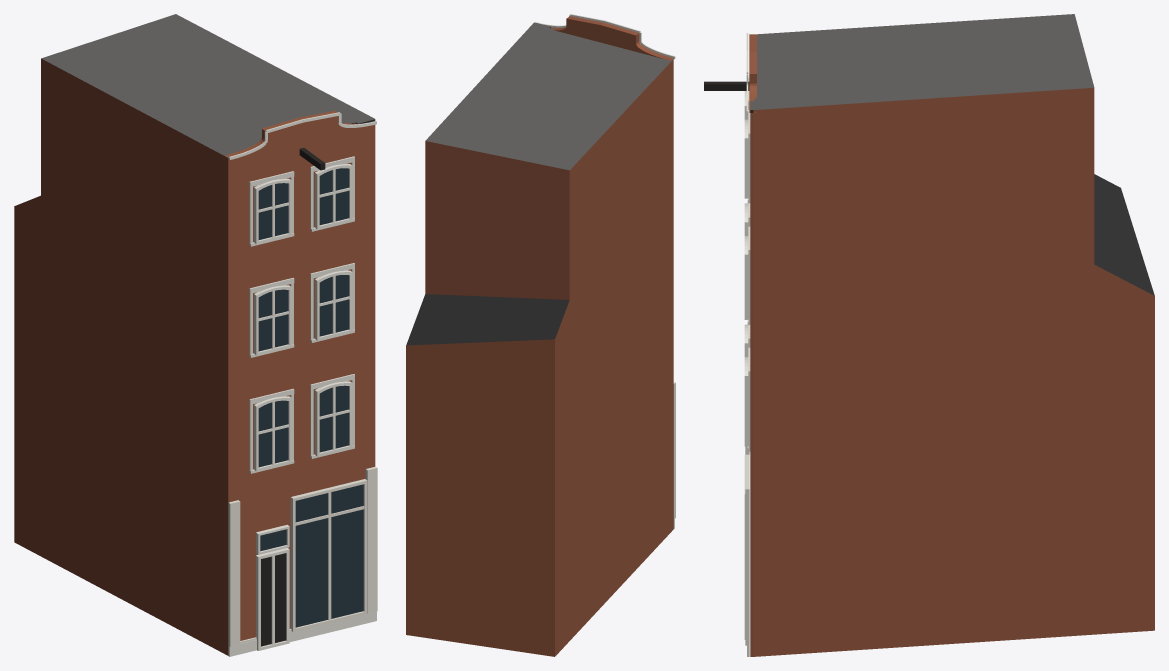
3 views of the same model, side by side, from view 1: azimuth 30°, elevation 25°; view 2: azimuth 150°, elevation 25°; view 3: azimuth 270°, elevation 25° (orthographic). The views are drawn at different scales.
Visible parts, largest first — view 1: spec-0363100012178293; view 2: spec-0363100012178293; view 3: spec-0363100012178293.
Part boxes in pixels (x1,y1,x2,y2): spec-0363100012178293: (14, 14, 377, 656); spec-0363100012178293: (406, 14, 675, 656); spec-0363100012178293: (704, 14, 1154, 656).
Bounding box in the file's own units: 5.75 × 14.91 × 10.74.
